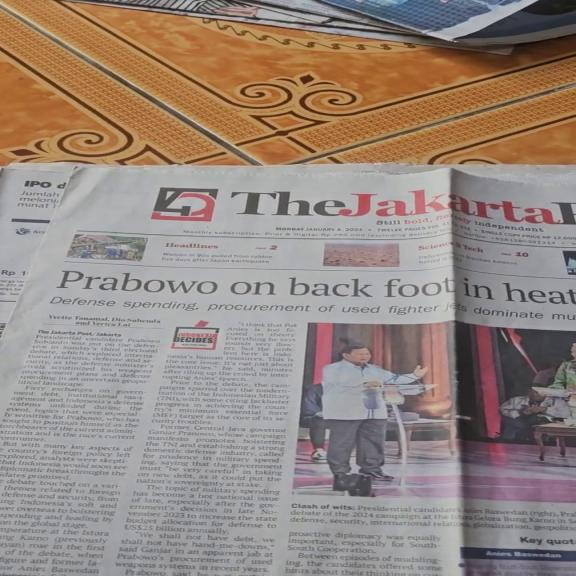Kertas: (9, 168, 566, 576)
